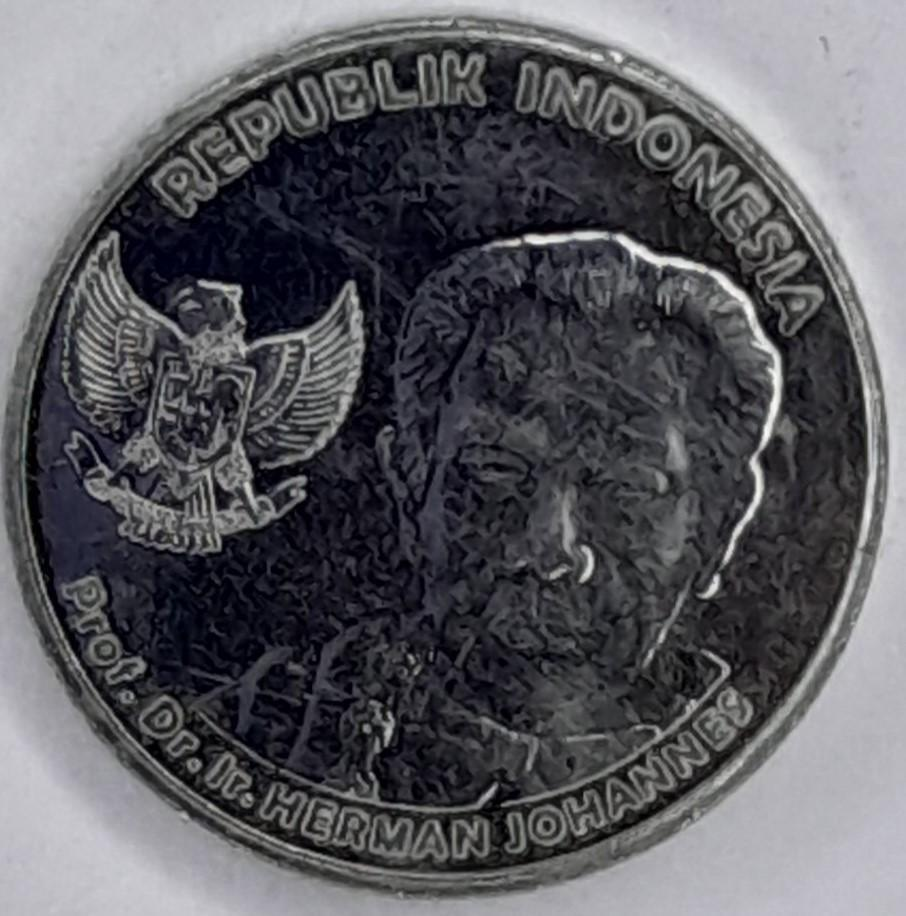coin_100_e2016: (0, 10, 892, 896)
